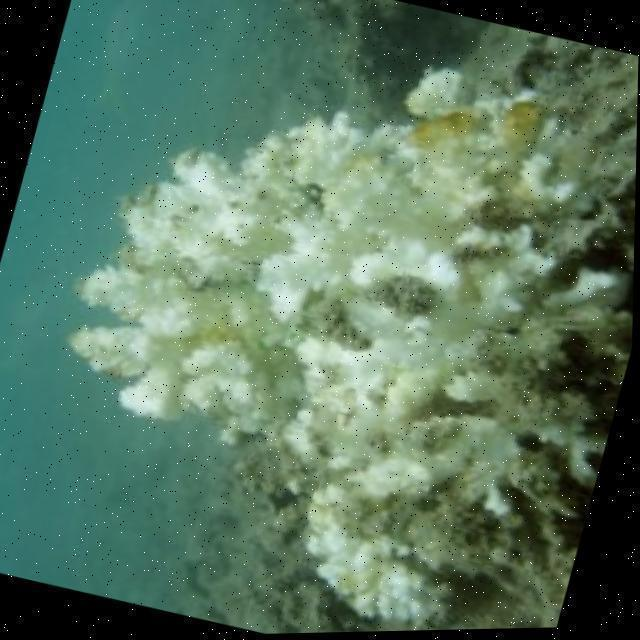Bleached Coral: (74, 47, 633, 627)
